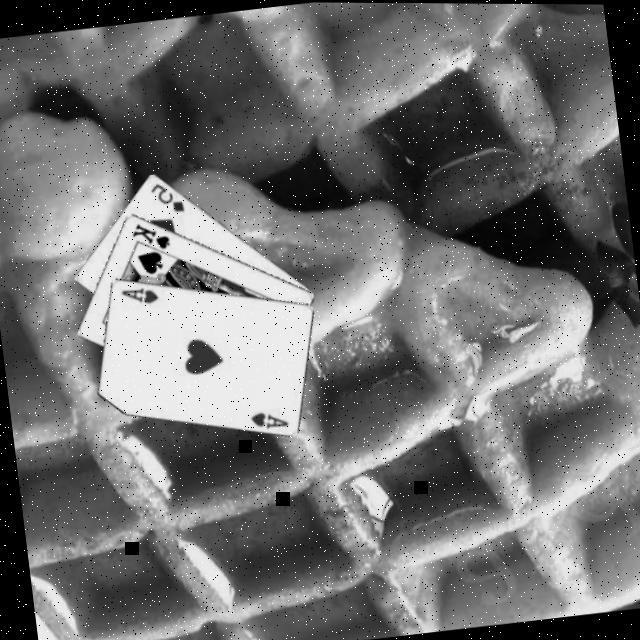5D: (145, 177, 186, 218)
AH: (116, 283, 160, 310), (245, 406, 289, 433)
KS: (126, 217, 172, 256)
